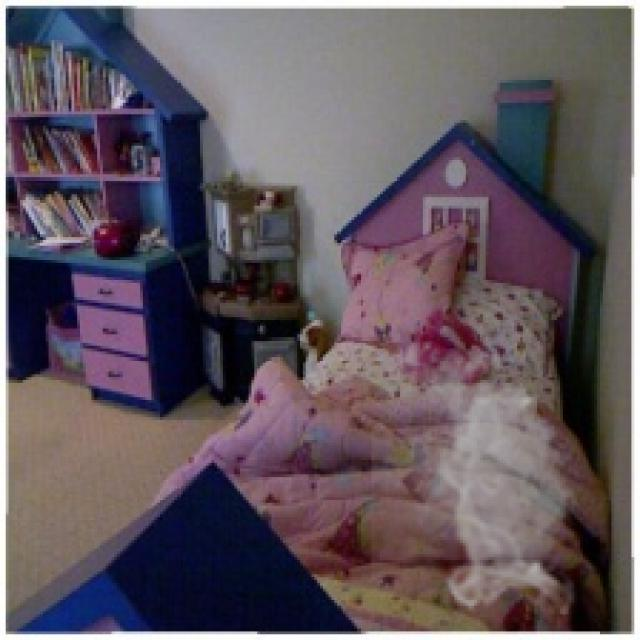smoke: (371, 332, 586, 614)
